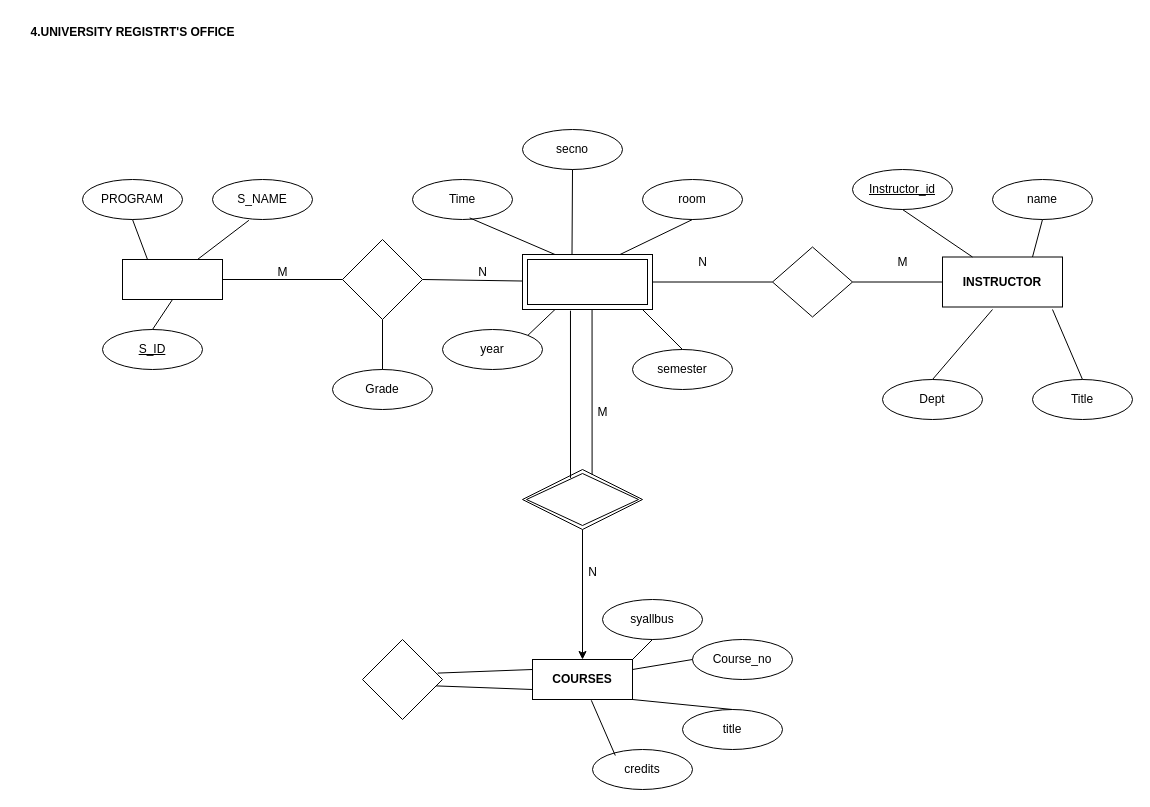
This 1150x807 diagram has some shape labels left out. The shapes that lost their labels are listed below. From the top down, each one's centre as x and y in pixels, then its label:
the point at 172,279: STUDENTS
the point at 382,279: ENROLLS
the point at 587,282: COURSE_OFFERING
the point at 812,281: TEACHES
the point at 582,499: IS_OFFERED
the point at 402,679: requires
